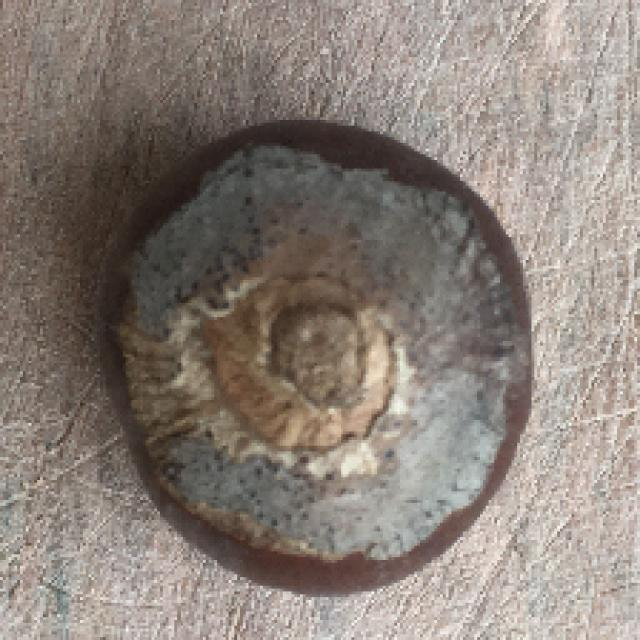damagedHazelnut: (110, 117, 531, 592)
